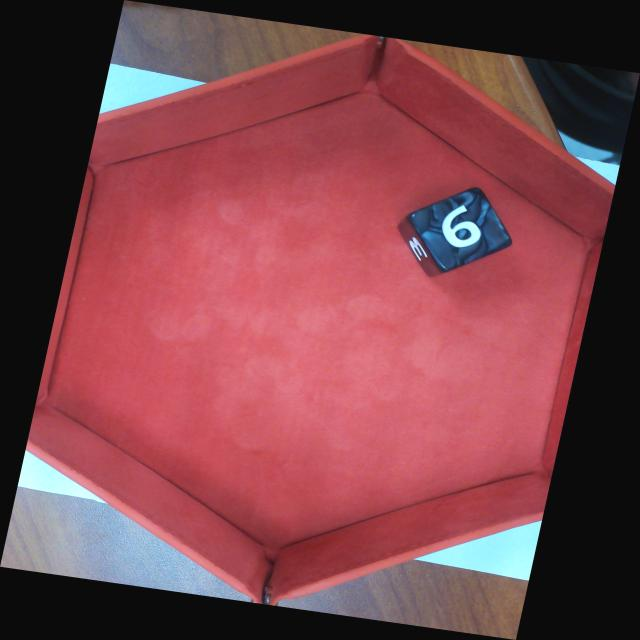dice: (416, 190, 512, 268)
